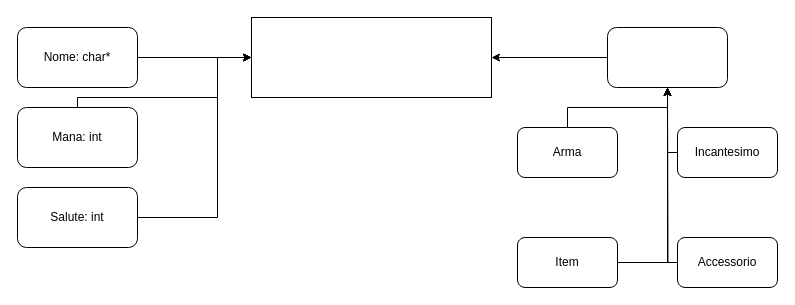
Some shapes in this 795 by 305 pixel diagram are drawn without their labels. Each missing label, with the centre of its shape:
"Inventario: Struct" goes at point (667, 57).
"Personaggio: struct" goes at point (371, 57).
